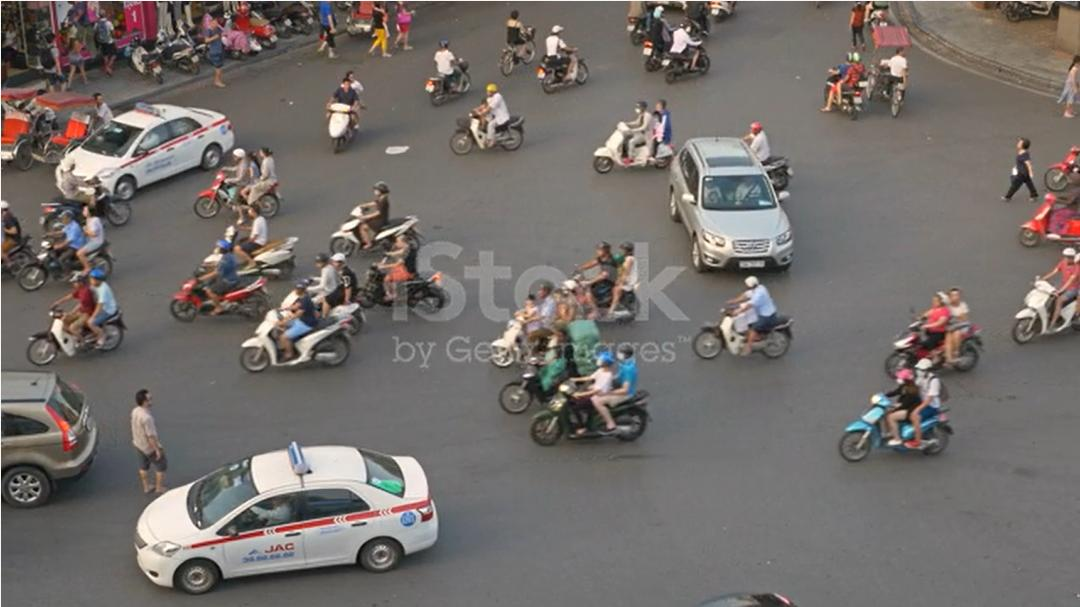bicycle: (496, 28, 542, 81)
car: (109, 429, 463, 602), (27, 83, 243, 235), (657, 131, 814, 311), (0, 358, 98, 528)
motorcycle: (837, 375, 988, 476), (216, 303, 371, 387), (885, 307, 1013, 388), (523, 379, 640, 455), (675, 297, 803, 364), (16, 295, 131, 363), (151, 259, 279, 320), (204, 217, 310, 285), (583, 110, 681, 181), (319, 195, 419, 261), (17, 232, 120, 294), (350, 260, 458, 318), (1011, 267, 1077, 358), (186, 173, 293, 225), (1009, 183, 1080, 260), (485, 310, 571, 371), (449, 103, 538, 160), (564, 270, 646, 331), (740, 140, 811, 207), (500, 354, 573, 418), (419, 55, 491, 102), (528, 45, 596, 90), (827, 59, 867, 135), (871, 63, 921, 123), (323, 91, 368, 157), (660, 46, 717, 81), (643, 38, 676, 65)
